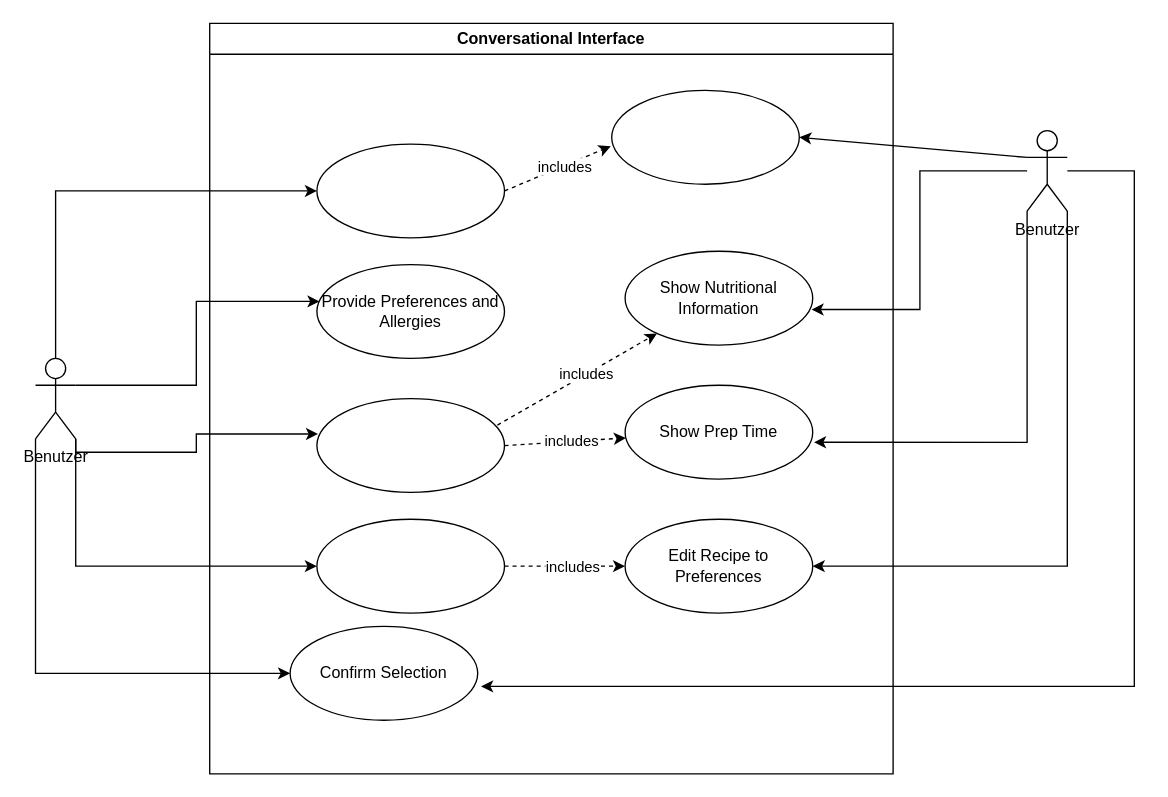
Some shapes in this 1168 by 797 pixel diagram are drawn without their labels. The box of each missing label's shape, as (x1, y1, x2, y2) in pixels:
Ask for a recipe: (316, 143, 505, 238)
Customize Preferences: (316, 518, 505, 613)
Filter Recipes: (610, 89, 799, 184)
View Recipe Details: (316, 397, 505, 492)
